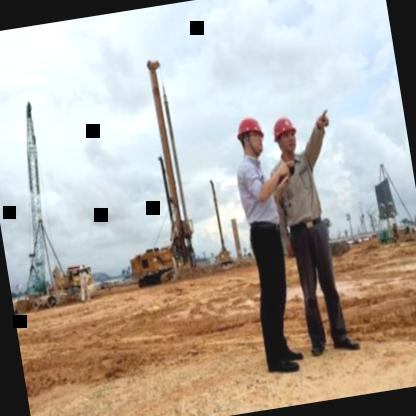helmet: (230, 106, 272, 162), (266, 106, 301, 166)
